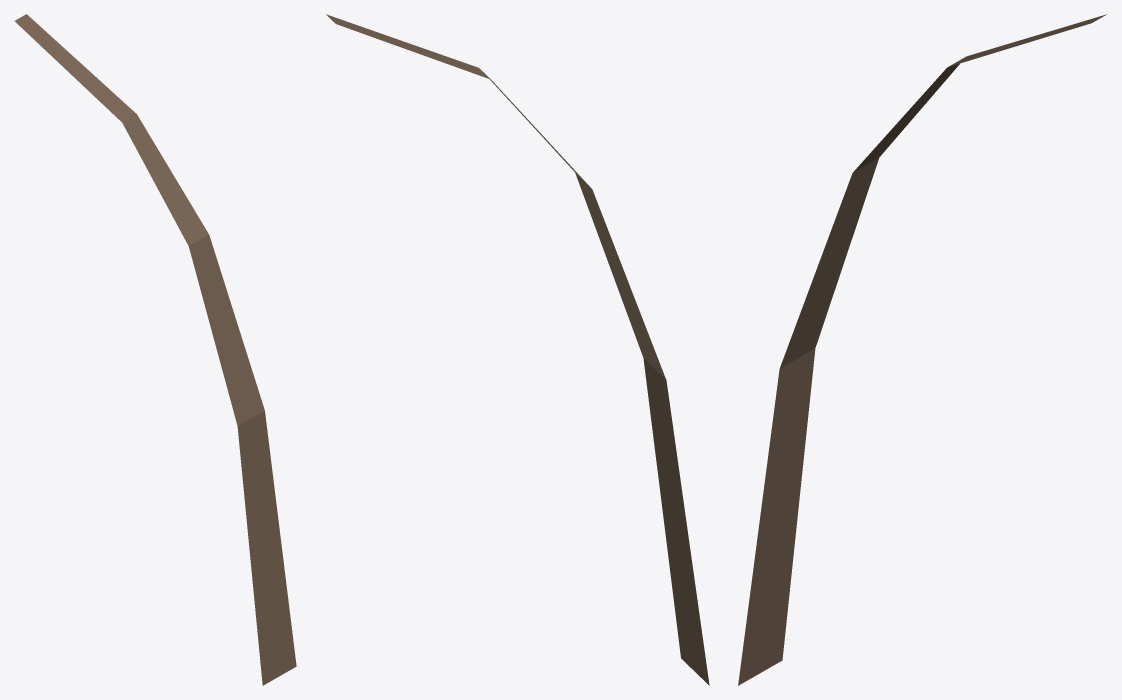
The model's file is grass2.glb.
The picture shows the model from 3 angles, left to right: view 1: azimuth 90°, elevation 25°; view 2: azimuth 150°, elevation 25°; view 3: azimuth 270°, elevation 25°; orthographic projection. The views are drawn at different scales.
Visible parts, largest first — view 1: grass.003; view 2: grass.003; view 3: grass.003.
Part boxes in pixels (left/top/right/bottom): grass.003: left=14, top=14, right=296, bottom=685; grass.003: left=326, top=14, right=709, bottom=685; grass.003: left=738, top=14, right=1106, bottom=685.
Size of the model in its own units: 0.1784 by 0.5188 by 0.2292.
